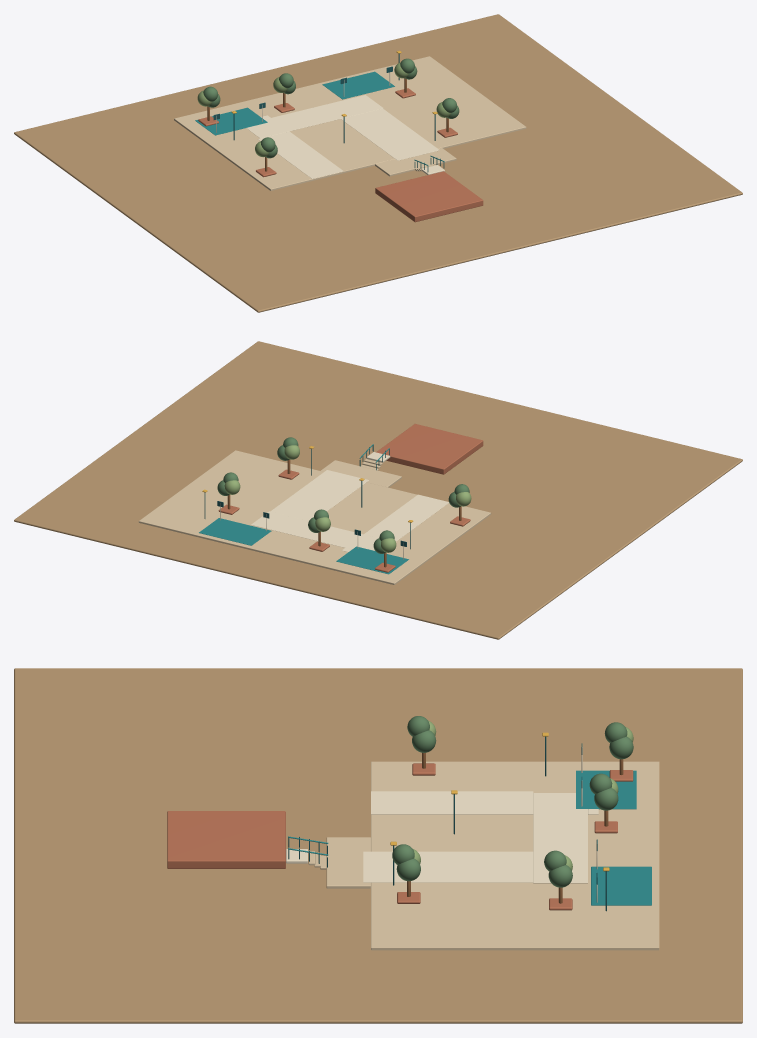
File: NeighborhoodGround.fbx
The picture shows the model from 3 angles, top to bottom: view 1: azimuth 30°, elevation 25°; view 2: azimuth 150°, elevation 25°; view 3: azimuth 270°, elevation 25°; orthographic projection. The views are drawn at different scales.
Visible parts, largest first — view 1: MahalleToprakTabani, MahalleZemini, ApartmanTemeli, AnaYol, Baglanti, YanYol, ToplanmaZemini, Avlu, ToplanmaZemini.001; view 2: MahalleToprakTabani, MahalleZemini, ApartmanTemeli, AnaYol, Baglanti, YanYol, ToplanmaZemini, ToplanmaZemini.001, Avlu; view 3: MahalleToprakTabani, MahalleZemini, ApartmanTemeli, AnaYol, Baglanti, YanYol, ToplanmaZemini, Avlu, ToplanmaZemini.001.
Boxes of the visible parts, <box> form: MahalleToprakTabani: <box>14,14,742,312</box>; MahalleZemini: <box>174,56,526,190</box>; ApartmanTemeli: <box>375,171,483,222</box>; AnaYol: <box>341,108,439,160</box>; Baglanti: <box>246,95,383,138</box>; YanYol: <box>258,131,343,178</box>; ToplanmaZemini: <box>322,71,394,99</box>; Avlu: <box>375,147,456,176</box>; ToplanmaZemini.001: <box>195,107,267,135</box>; MahalleToprakTabani: <box>14,341,742,639</box>; MahalleZemini: <box>138,450,491,584</box>; ApartmanTemeli: <box>376,423,483,474</box>; AnaYol: <box>270,470,369,520</box>; Baglanti: <box>251,511,378,550</box>; YanYol: <box>364,494,449,541</box>; ToplanmaZemini: <box>199,518,271,545</box>; ToplanmaZemini.001: <box>336,546,408,574</box>; Avlu: <box>320,460,401,487</box>; MahalleToprakTabani: <box>14,668,742,1023</box>; MahalleZemini: <box>371,761,659,950</box>; ApartmanTemeli: <box>167,811,285,868</box>; AnaYol: <box>363,851,533,882</box>; Baglanti: <box>533,793,587,883</box>; YanYol: <box>371,791,533,814</box>; ToplanmaZemini: <box>591,866,651,905</box>; Avlu: <box>326,837,370,888</box>; ToplanmaZemini.001: <box>576,770,636,809</box>.
Size of the model in its own units: 5500 by 438 by 4800.
